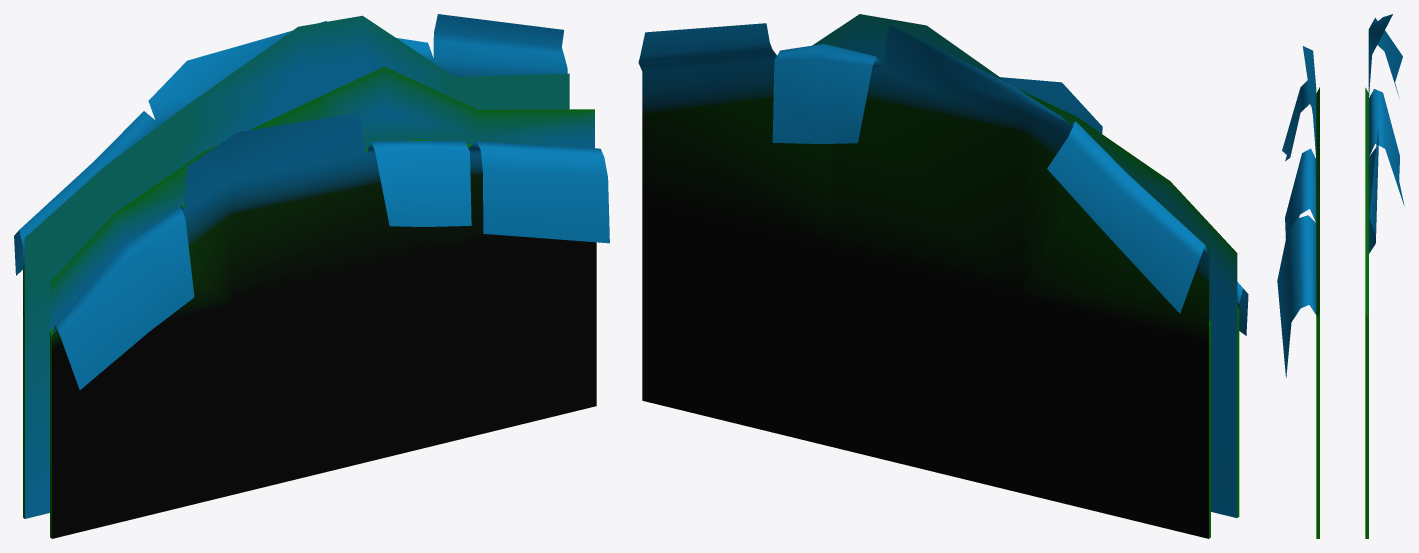
The model's file is DBK_Drywall_Tile_B.fbx.
The picture shows the model from 3 angles, left to right: view 1: azimuth 30°, elevation 25°; view 2: azimuth 150°, elevation 25°; view 3: azimuth 270°, elevation 25°; orthographic projection. The views are drawn at different scales.
Parts seen in each view (by area): view 1: DBK_Drywall_Tile_B; view 2: DBK_Drywall_Tile_B; view 3: DBK_Drywall_Tile_B.
Part boxes in pixels (<box>): DBK_Drywall_Tile_B: <box>14,14,609,538</box>; DBK_Drywall_Tile_B: <box>638,14,1248,538</box>; DBK_Drywall_Tile_B: <box>1277,14,1404,538</box>.
Size of what is drawn, in the model's own units: 300 by 224 by 67.47.
